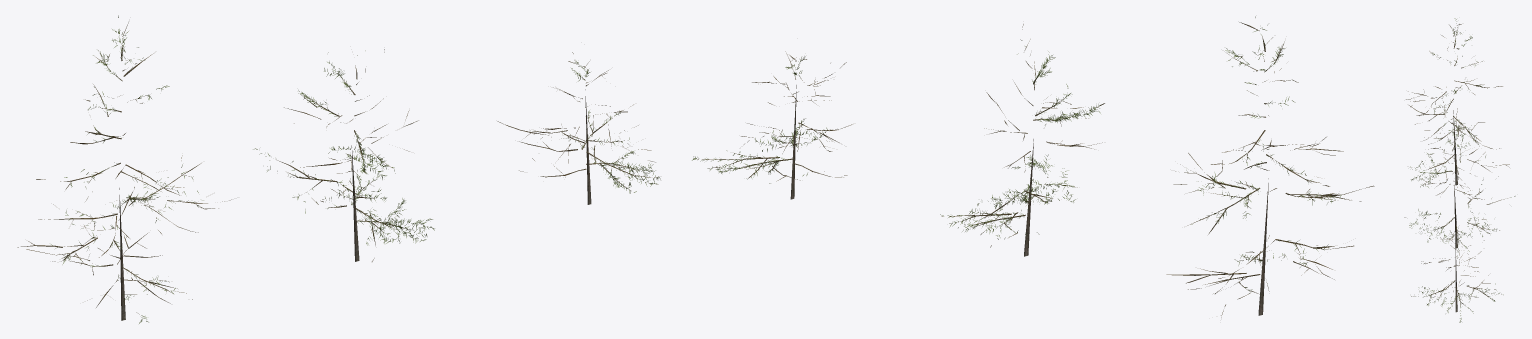
Rendered from fir_sapling.light.glb.
The picture shows the model from 3 angles, left to right: view 1: azimuth 30°, elevation 25°; view 2: azimuth 150°, elevation 25°; view 3: azimuth 270°, elevation 25°; orthographic projection. The views are drawn at different scales.
Visible parts, largest first — view 1: fir_sapling_a, fir_sapling_b, fir_sapling_c; view 2: fir_sapling_a, fir_sapling_b, fir_sapling_c; view 3: fir_sapling_a, fir_sapling_b, fir_sapling_c.
Part boxes in pixels (x1,y1,x2,y2): fir_sapling_a: [17, 15, 231, 323]; fir_sapling_b: [253, 49, 434, 261]; fir_sapling_c: [497, 52, 660, 204]; fir_sapling_a: [1166, 16, 1374, 317]; fir_sapling_b: [940, 24, 1104, 256]; fir_sapling_c: [692, 51, 852, 199]; fir_sapling_a: [1406, 18, 1509, 188]; fir_sapling_b: [1404, 125, 1515, 255]; fir_sapling_c: [1411, 219, 1503, 322].
Size of the model in its own units: 1.98 by 0.9078 by 0.5508.
Materials: 2 (2 with a texture image).
